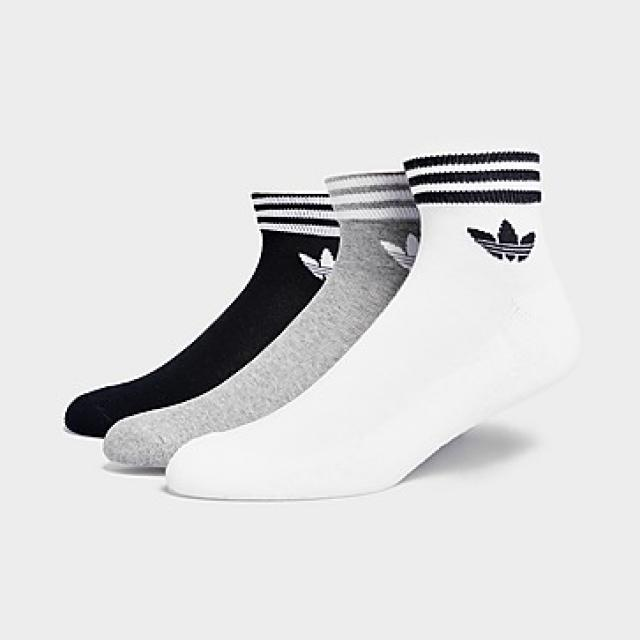sock: (162, 148, 580, 501), (102, 169, 420, 469)
